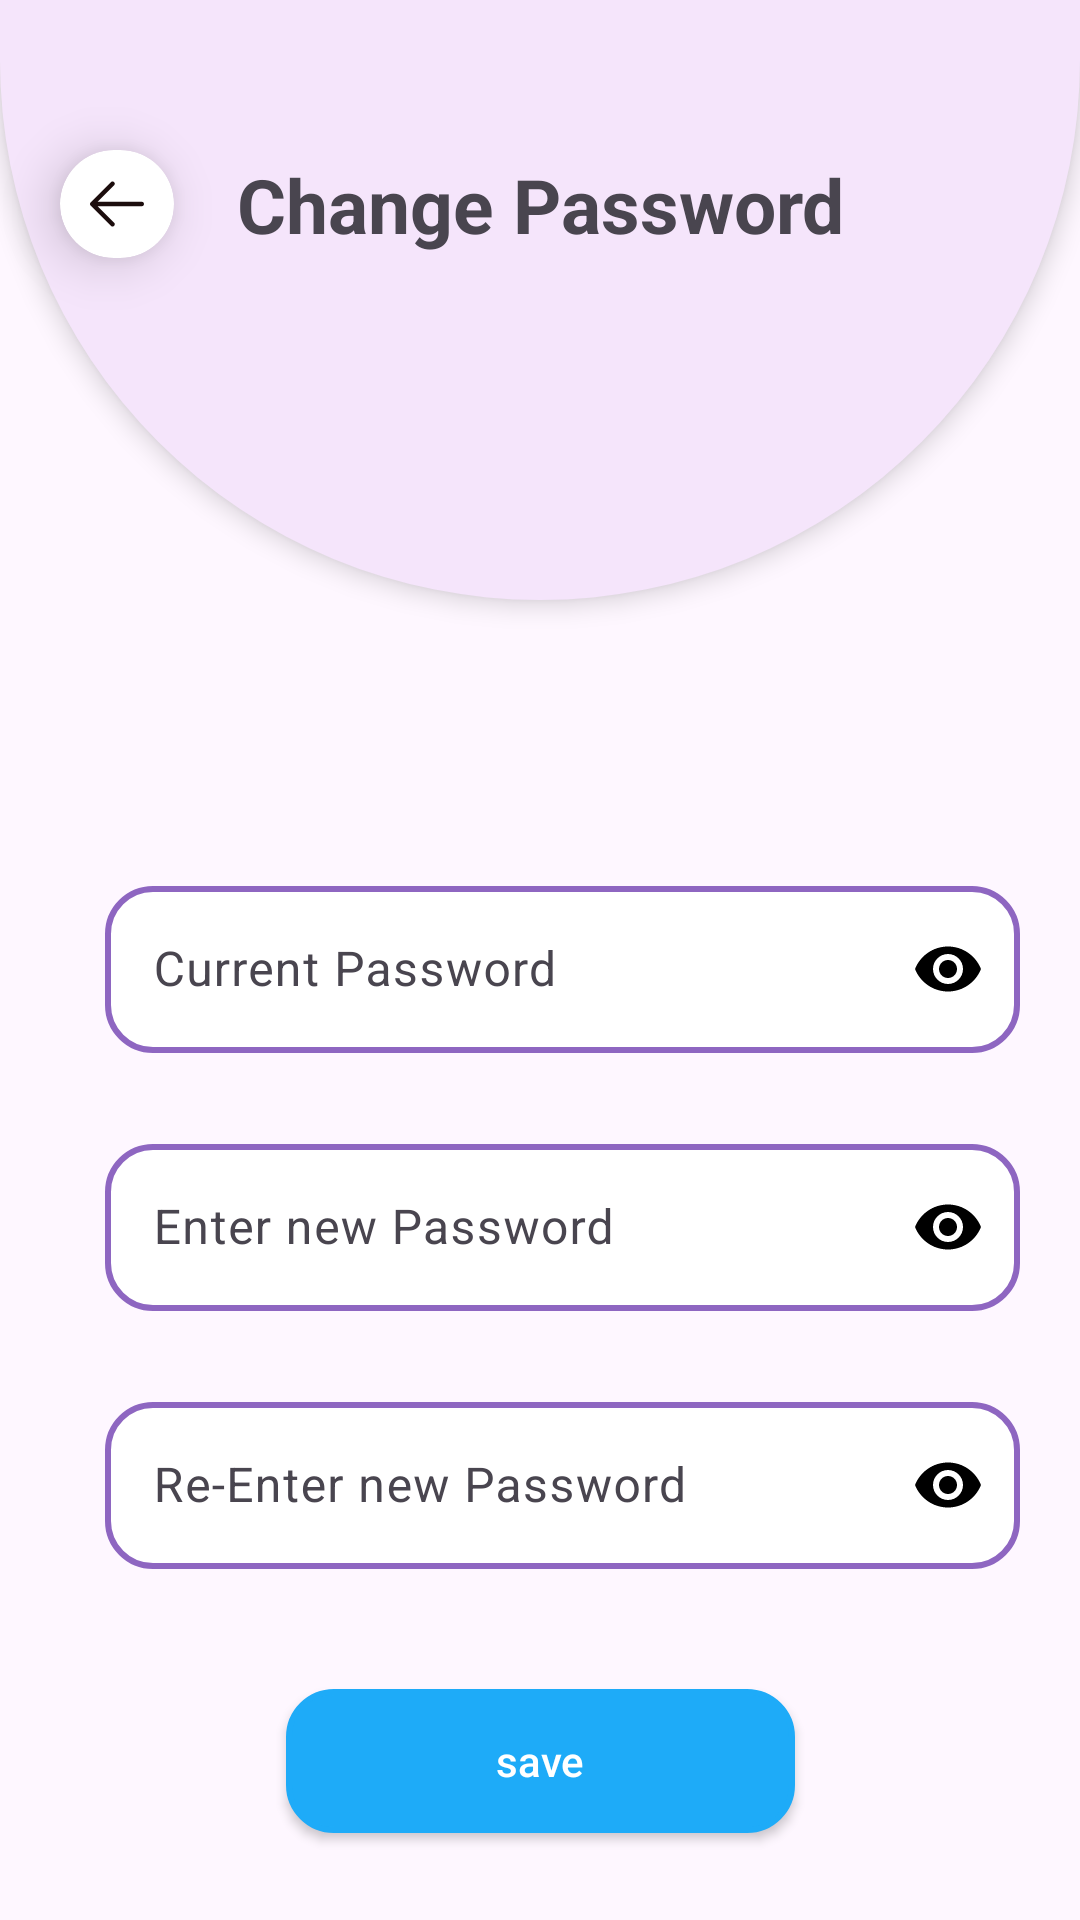

Icons on this 1080 x 1920 Android screen, each with its box as (x1, y1, x2, y2):
back: (90, 181, 144, 227)
